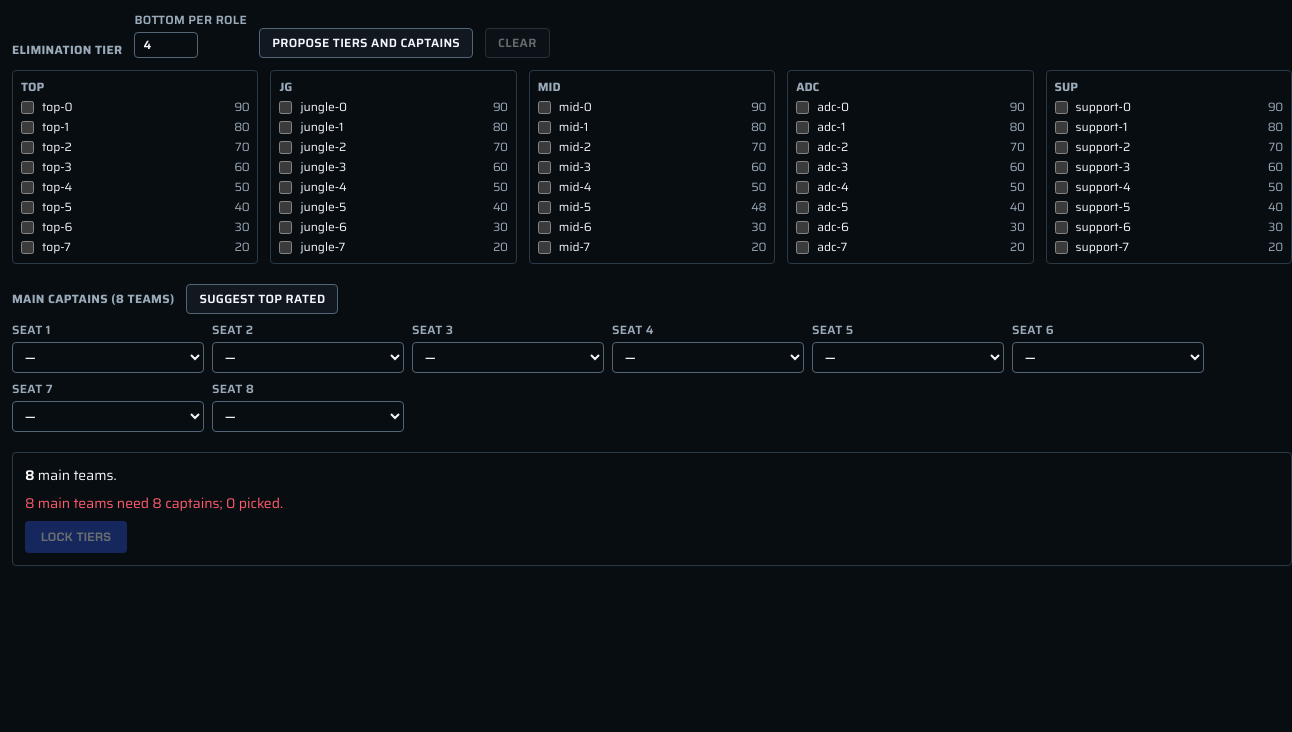
WeekSetup › suggests elimination captains by role
The width and height of the screenshot is (1292, 732).
Click the button "Propose tiers and captains" at coordinates (366, 43), box [259, 28, 473, 58]
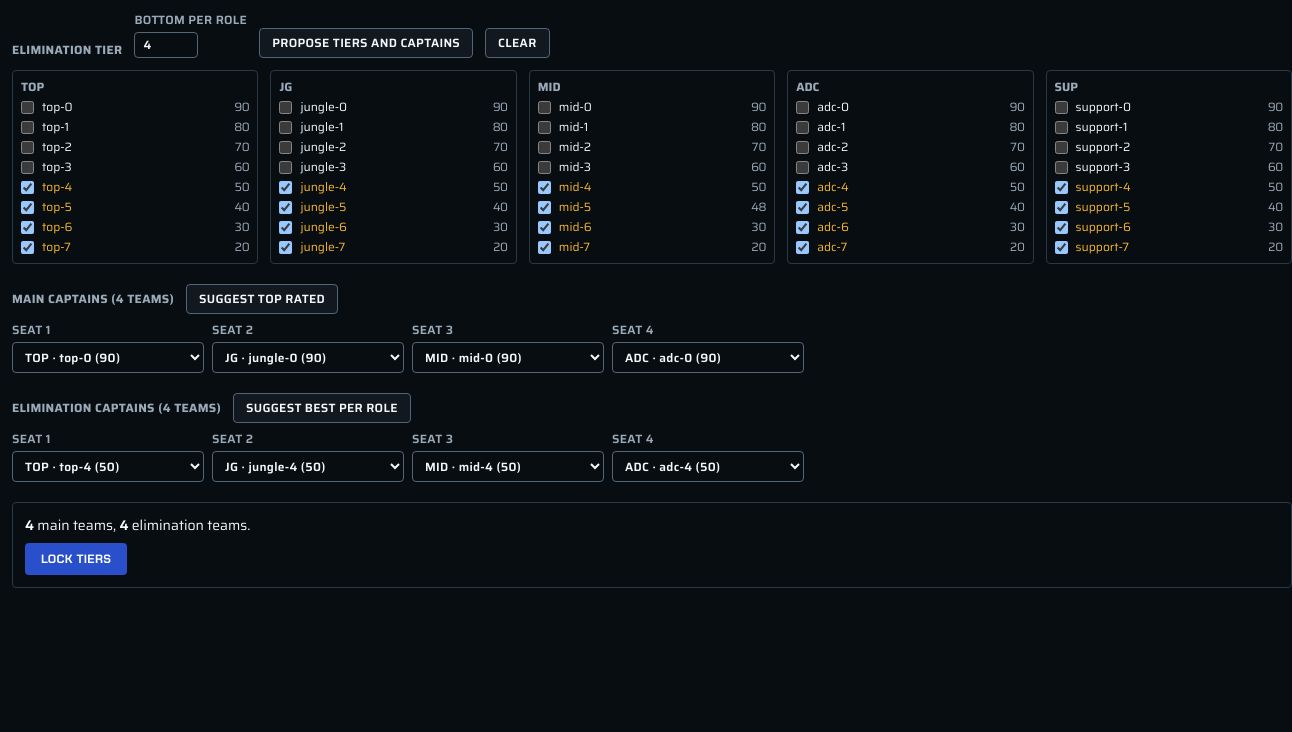
Result: the button "Suggest best per role" is shown at [233, 393, 411, 423]
Result: the number of buttons "Suggest top rated" is 1 at [186, 284, 338, 314]
